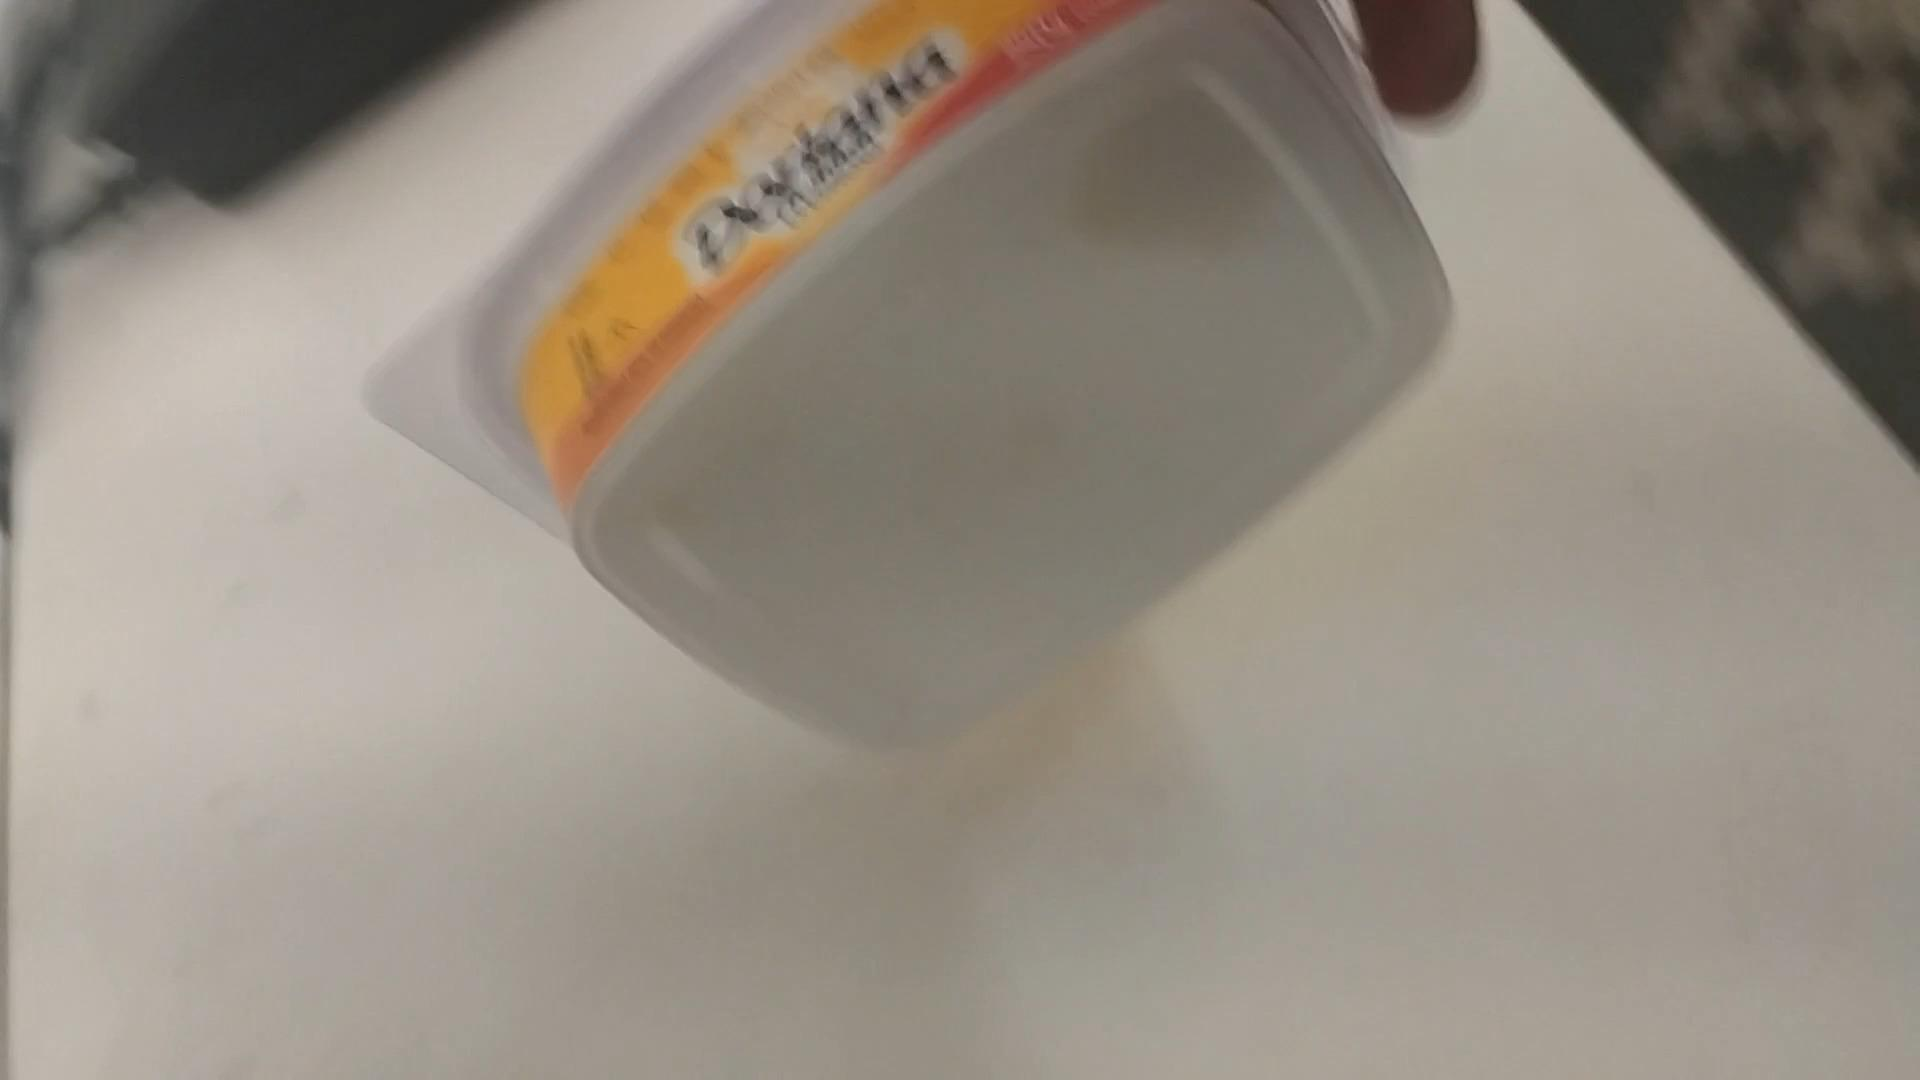butter: (372, 12, 1457, 766)
